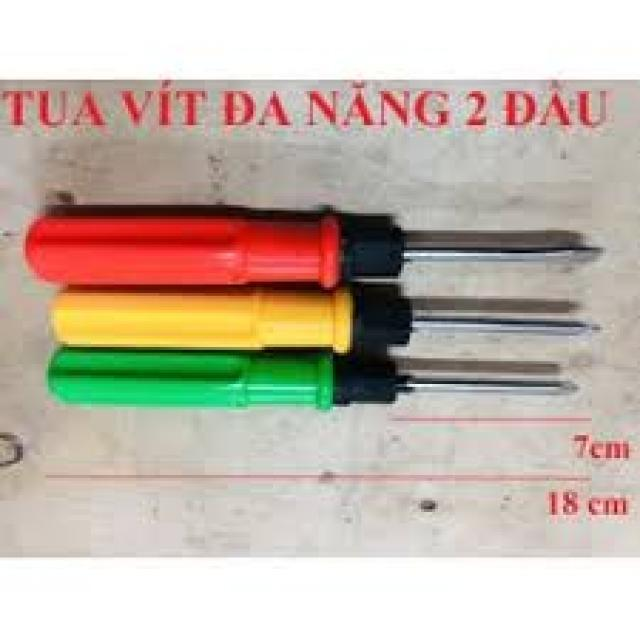screwdriver: (23, 202, 606, 290), (44, 280, 605, 349), (46, 344, 584, 410)
